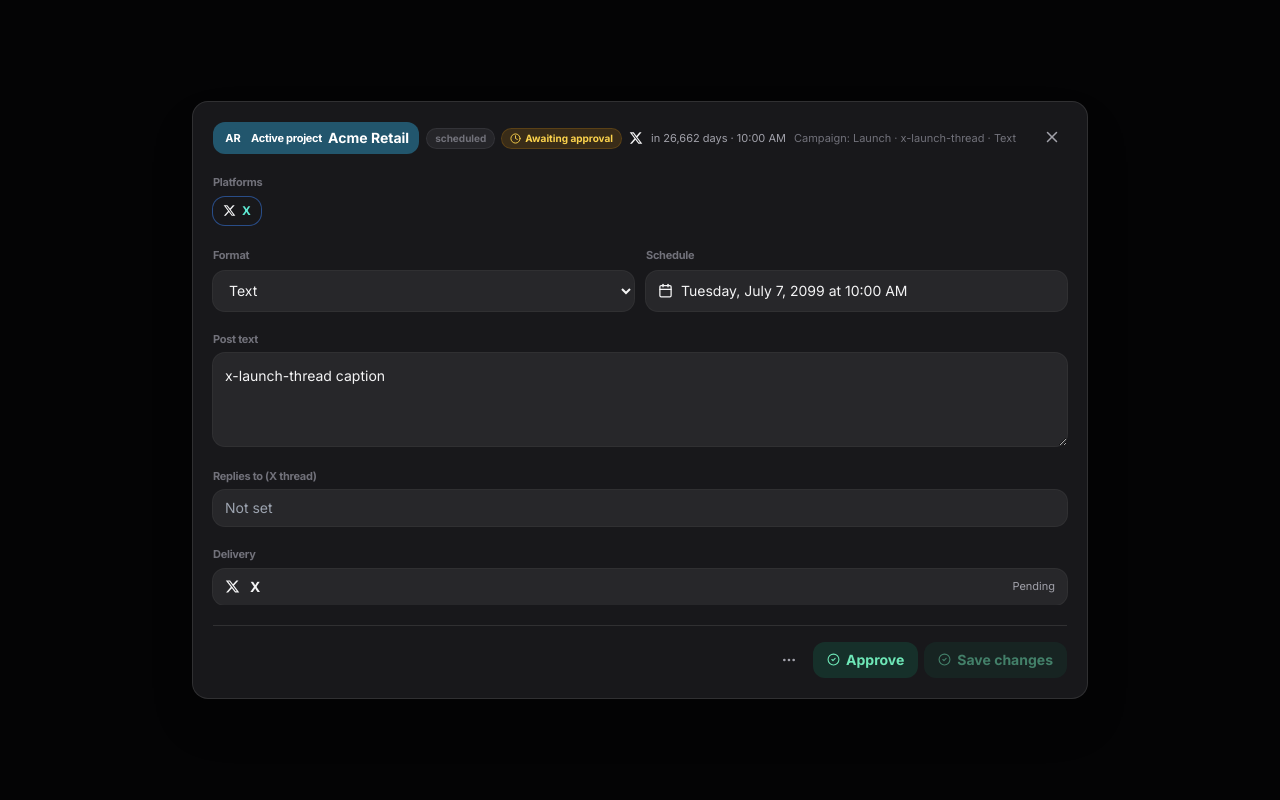
Test: PostDetail delete confirm thread warning › warns with the reply ids when other posts thread under this one
Click the button named "more actions".
click(789, 660)  # box [771,646,807,674]
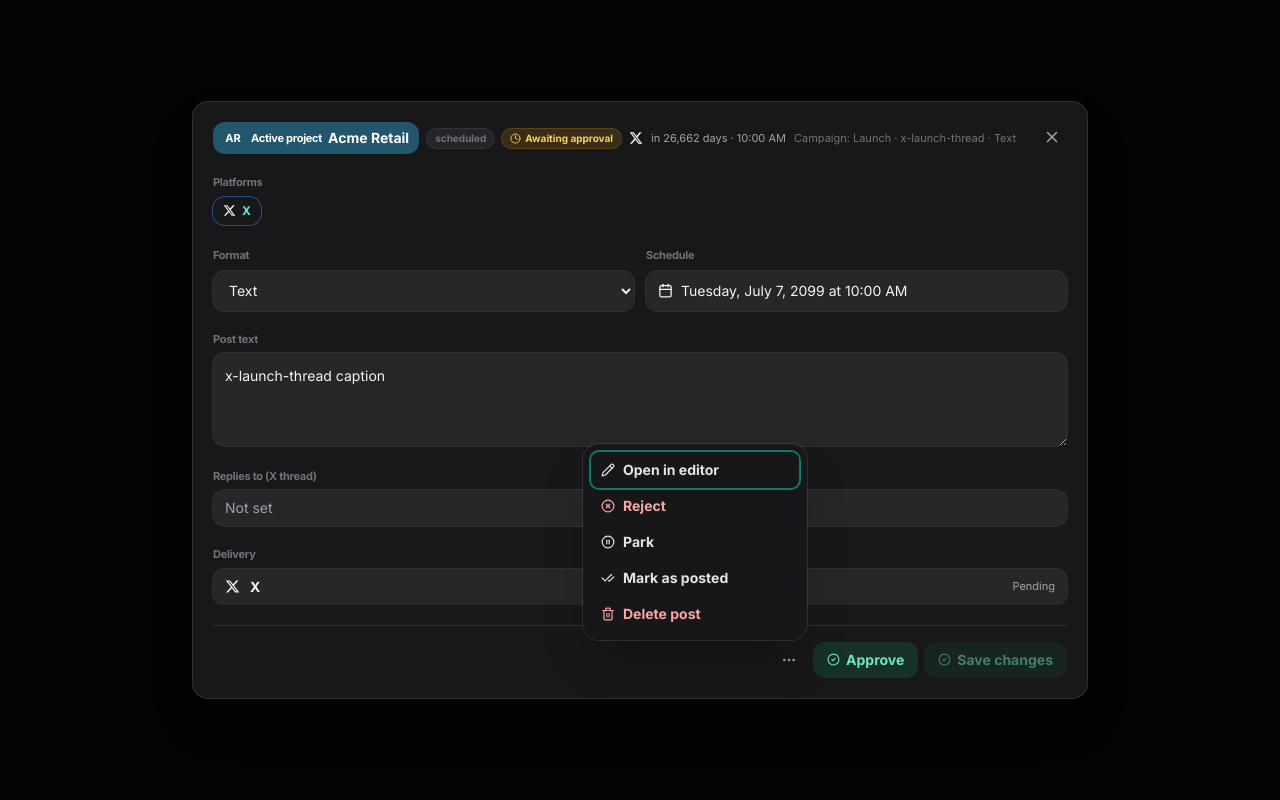
Click the button "Delete post".
click(695, 614)  # box [591,596,799,632]
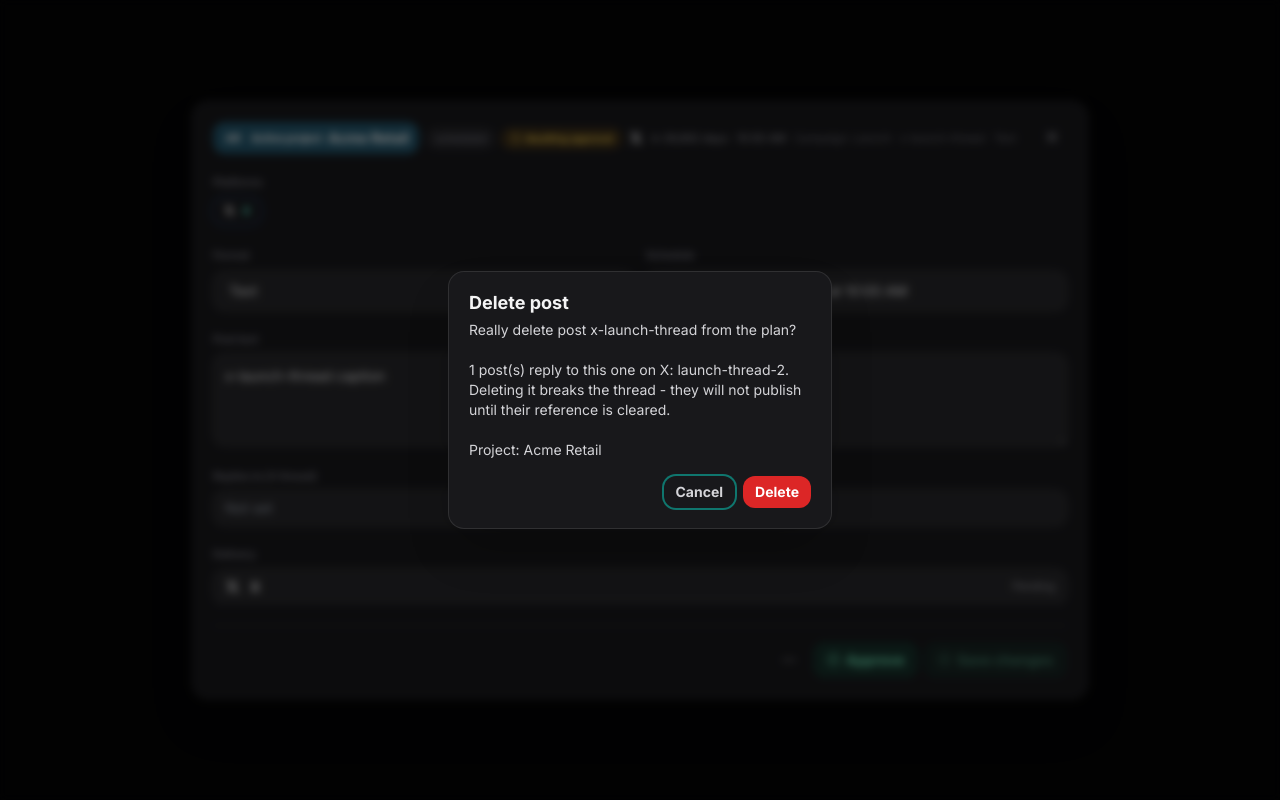
Now the dialog "Delete post" shows "launch-thread-2", box [469,321,805,458]
Now the dialog "Delete post" shows "will not publish", box [469,321,805,458]
